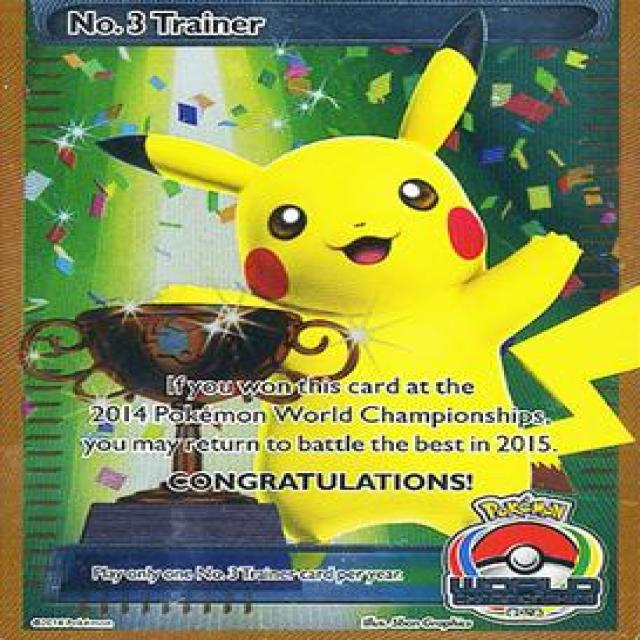pikachu: (94, 11, 639, 546)
